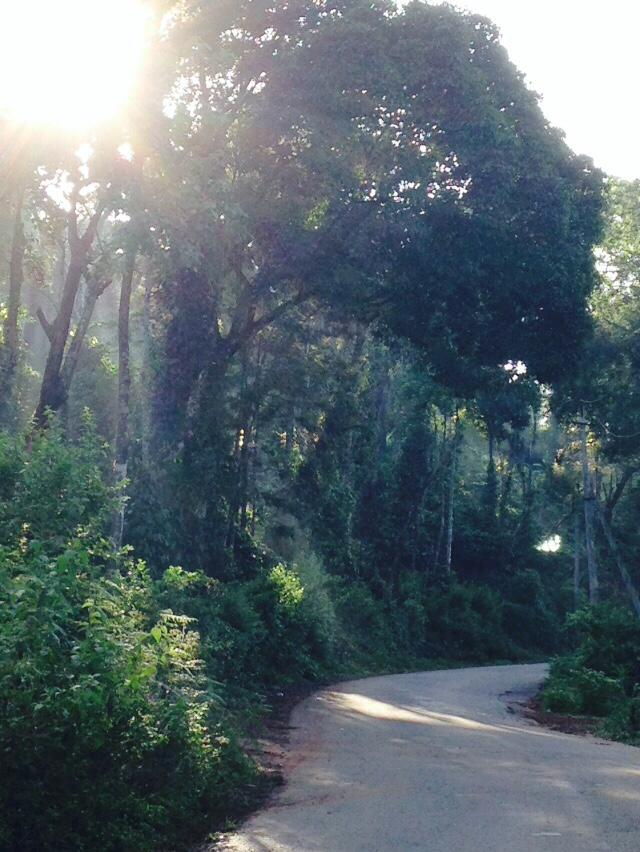plants: (238, 3, 640, 661), (4, 138, 236, 843)
